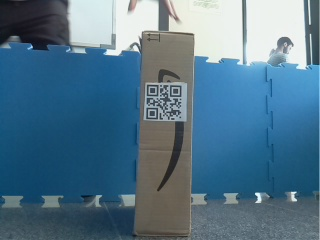caja: (139, 30, 190, 236)
